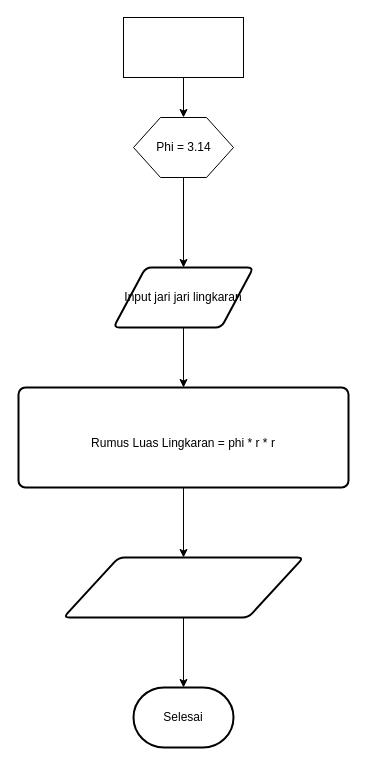
Some shapes in this 366 by 766 pixel diagram are drawn without their labels. Each missing label, with the centre of its shape:
Mulai: the point at 183,47
Tampilkan luas lingkaran: the point at 183,587
